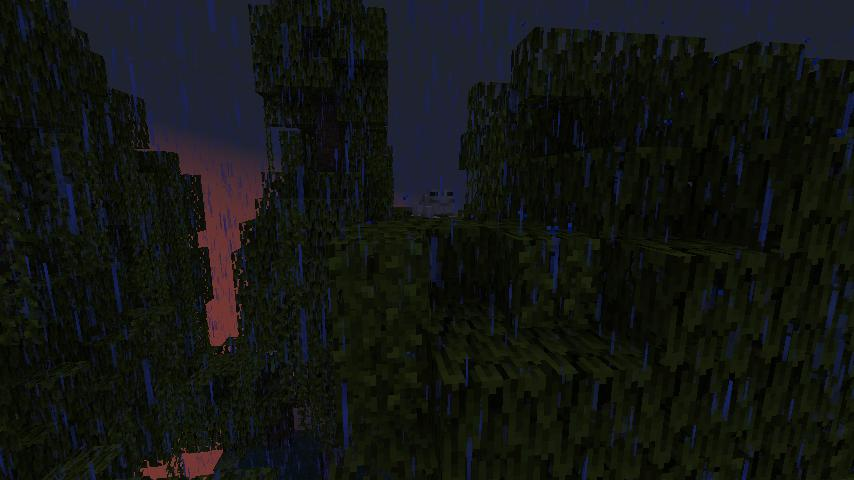frog: (409, 181, 461, 222)
